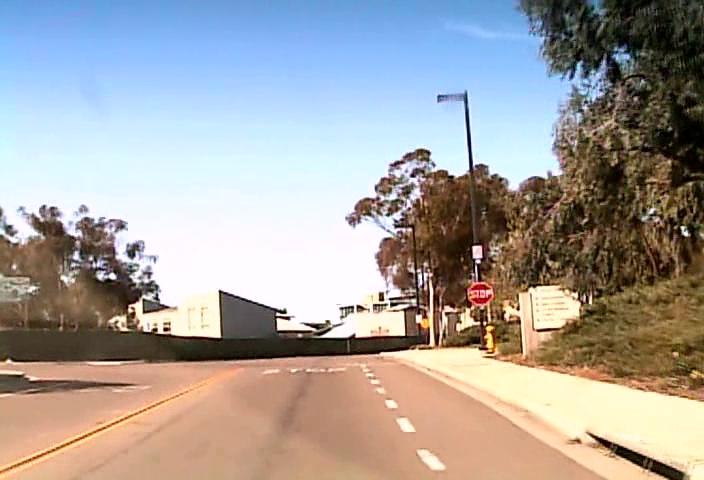stop: (467, 281, 493, 306)
